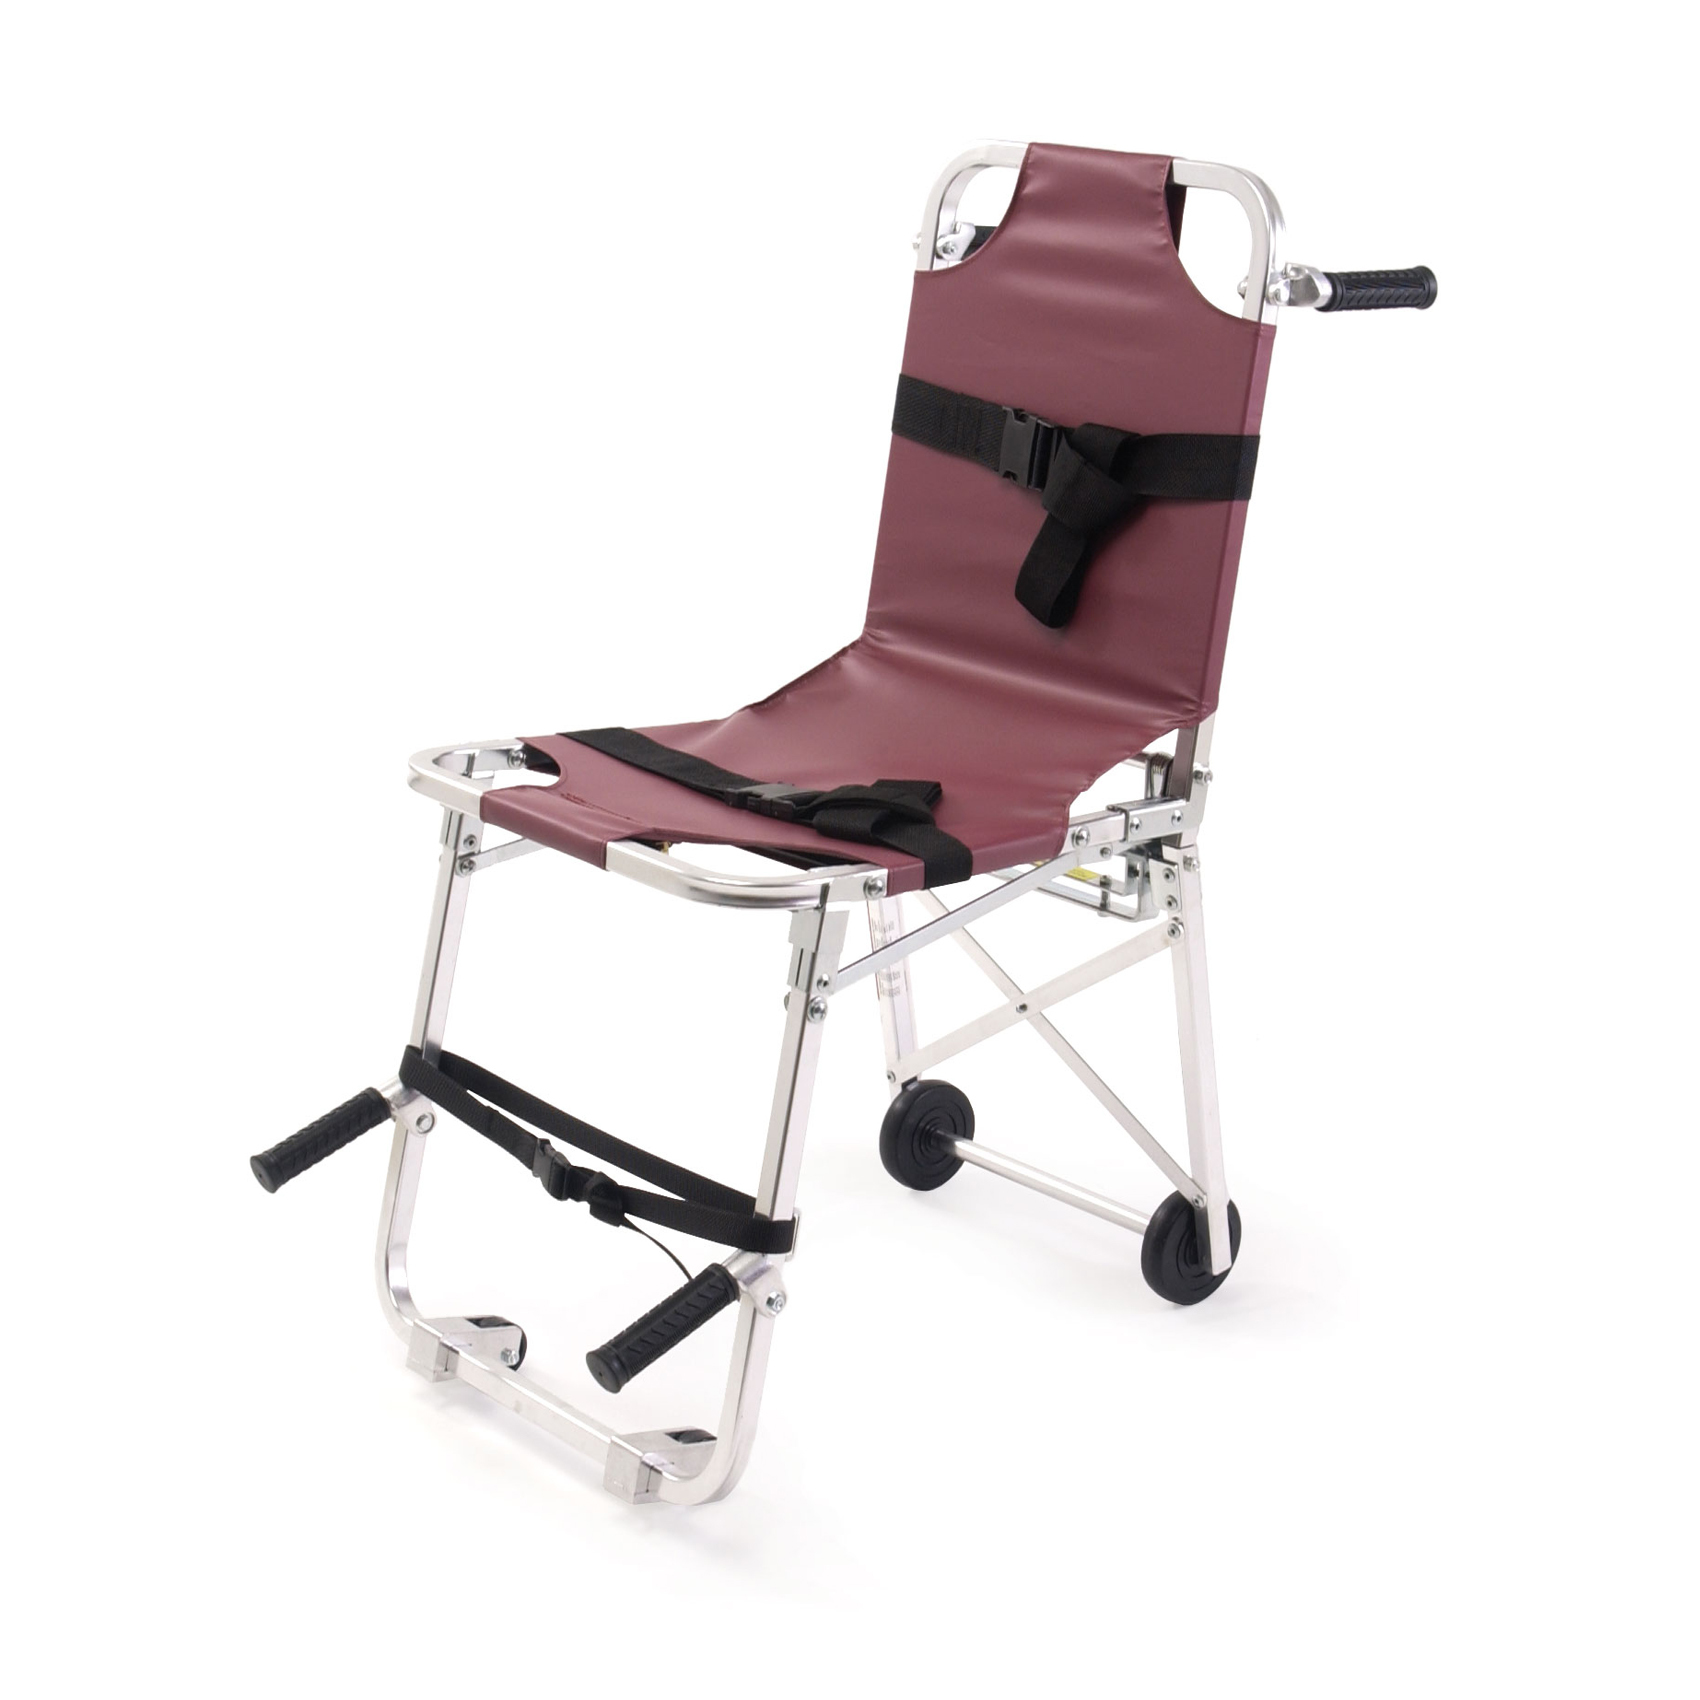chairs: (241, 139, 1487, 1533)
